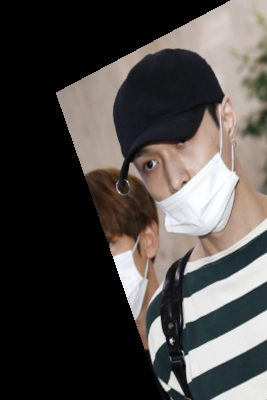mask_weared_incorrect: (105, 42, 246, 237)
